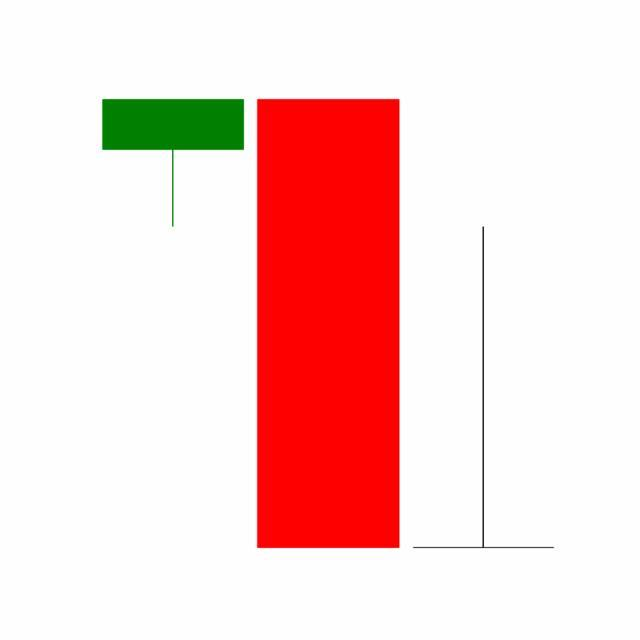Gravestone Doji: (406, 223, 562, 551)
